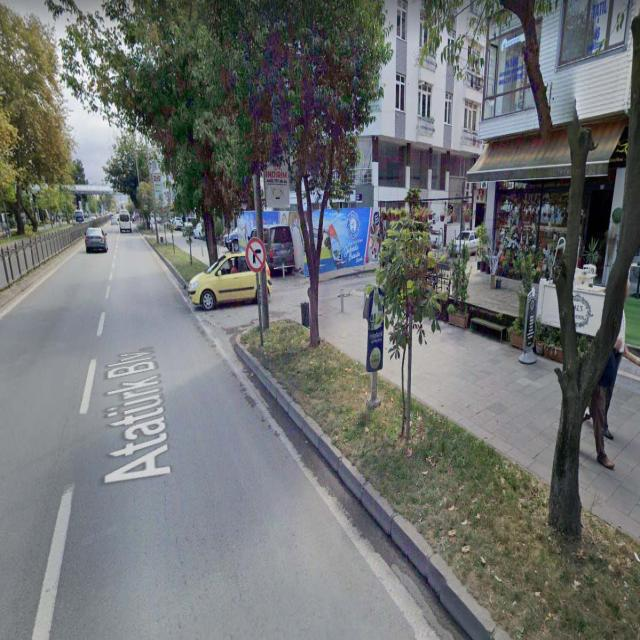sagadonulmez: (246, 233, 264, 274)
